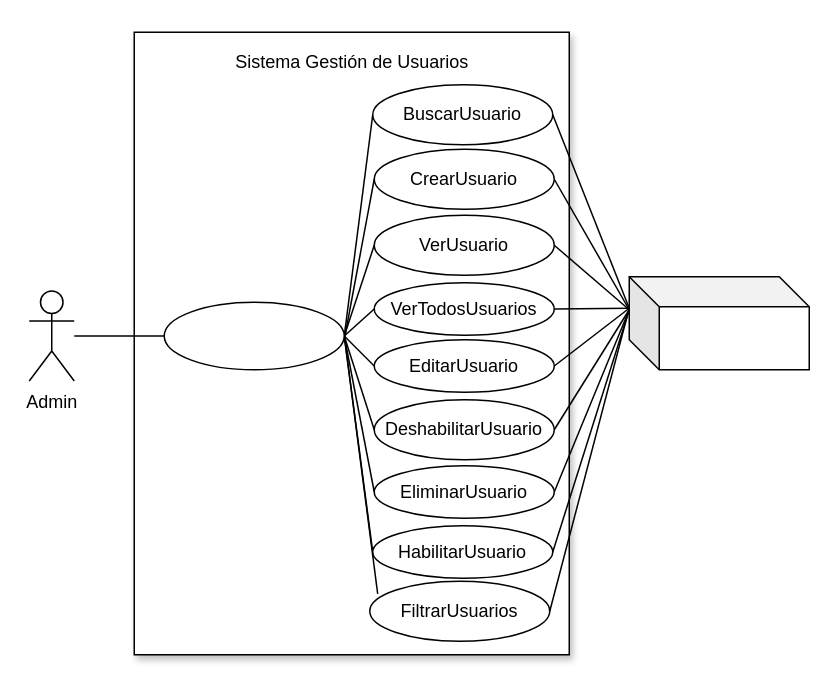
The diagram is 836 pixels wide and 692 high, and some of its shapes have lost their labels. The shapes that lost their labels are listed below. From the top down, each one's centre as x and y in pixels, then its label:
At (x=253, y=335): "Administrar usuarios".
At (x=718, y=322): "DB Gestión Usuario".
